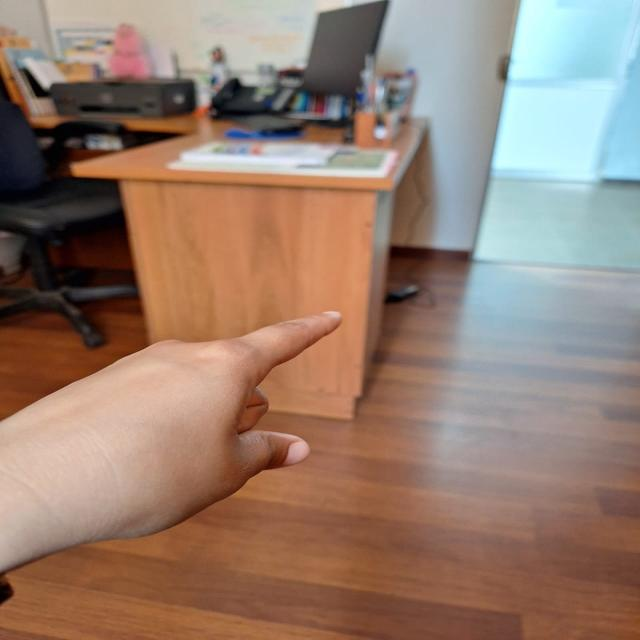S: (0, 304, 367, 586)
